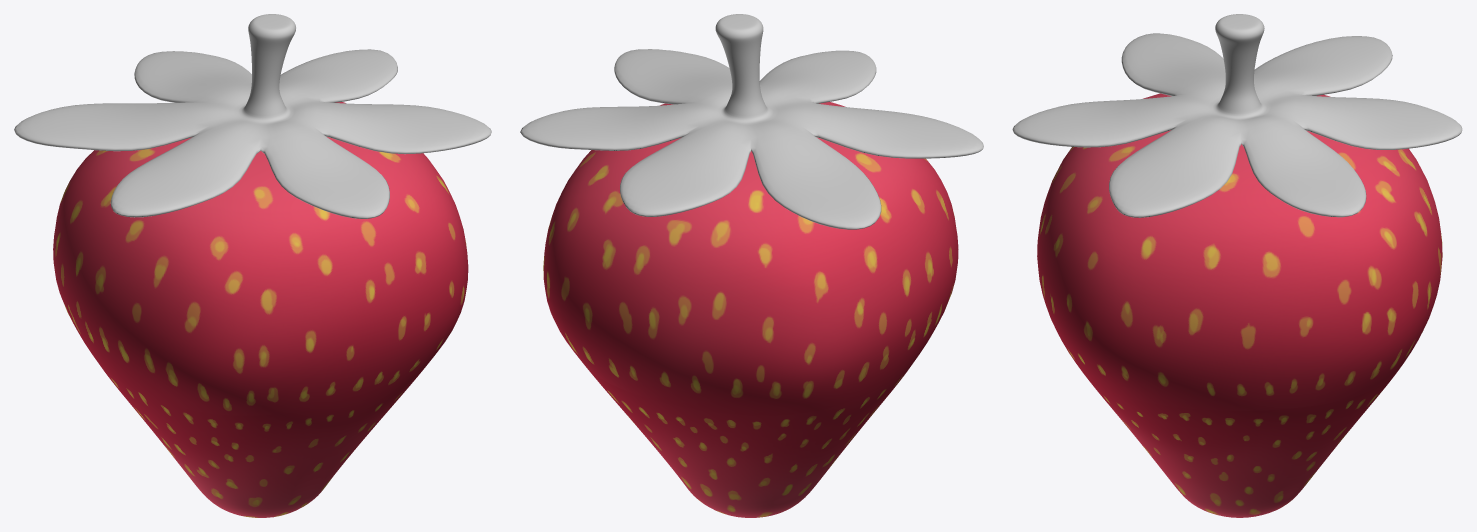
File: Fresa_02.fbx
3 views of the same model, side by side, from view 1: azimuth 30°, elevation 25°; view 2: azimuth 150°, elevation 25°; view 3: azimuth 270°, elevation 25° (orthographic).
Visible parts, largest first — view 1: fresa, hojas; view 2: fresa, hojas; view 3: fresa, hojas.
Boxes of the visible parts, x1,y1,x2,y2 form: fresa: (53,102,468,517); hojas: (14,14,491,218); fresa: (543,102,958,517); hojas: (520,14,983,229); fresa: (1037,93,1442,517); hojas: (1012,14,1462,217).
Size of the model in its own units: 11.19 by 14.15 by 11.7.
